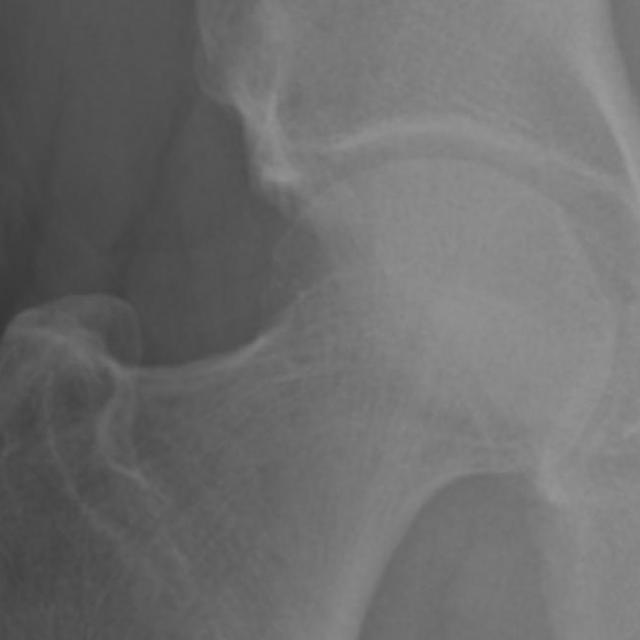Fitted_femural_head: (354, 156, 432, 354)
